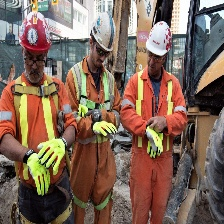helmet: (17, 8, 54, 55), (144, 17, 173, 60), (89, 11, 117, 53)
person: (63, 9, 122, 224), (131, 20, 187, 221), (8, 10, 63, 214)
vest: (5, 75, 66, 205), (125, 70, 182, 204), (72, 60, 120, 174)
